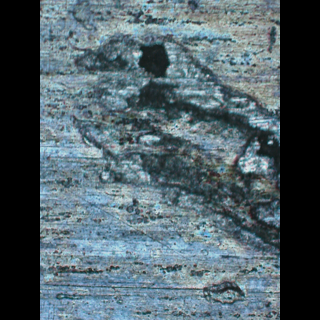d: (68, 31, 280, 252), (197, 278, 249, 305)
